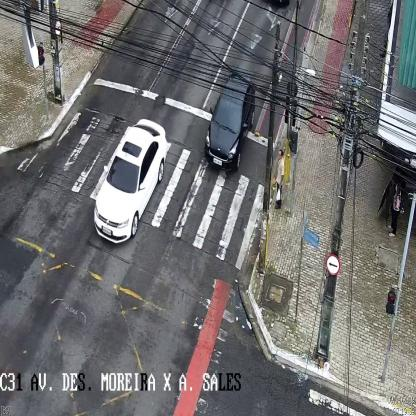car: (95, 118, 166, 244), (204, 73, 254, 174)
person: (388, 184, 404, 239), (274, 148, 284, 208)
